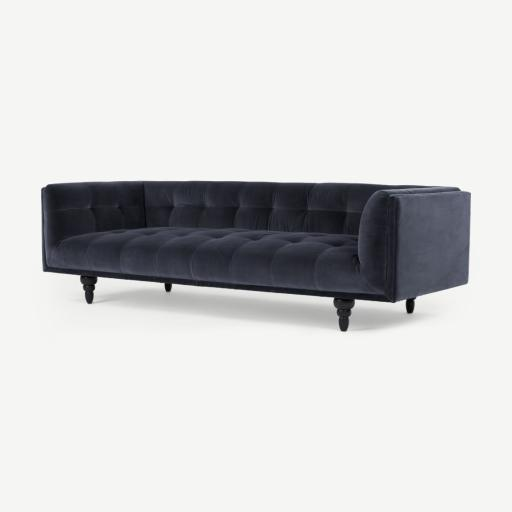back_cushion: (145, 181, 384, 234)
left_arm: (358, 187, 470, 312)
legs: (334, 299, 355, 331), (81, 276, 97, 303), (406, 298, 415, 313), (164, 283, 171, 292)
one-seater: (41, 181, 470, 331)
right_arm: (42, 181, 145, 266)
seat_cushion: (52, 227, 379, 294)
